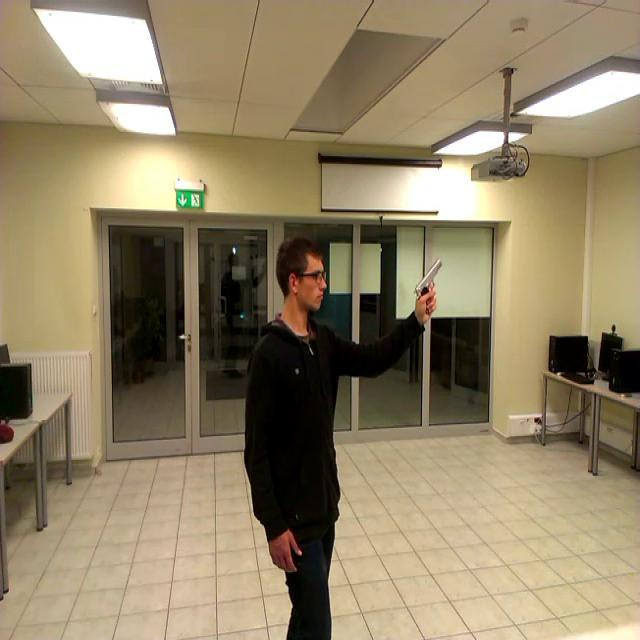Gun: (416, 257, 442, 313)
